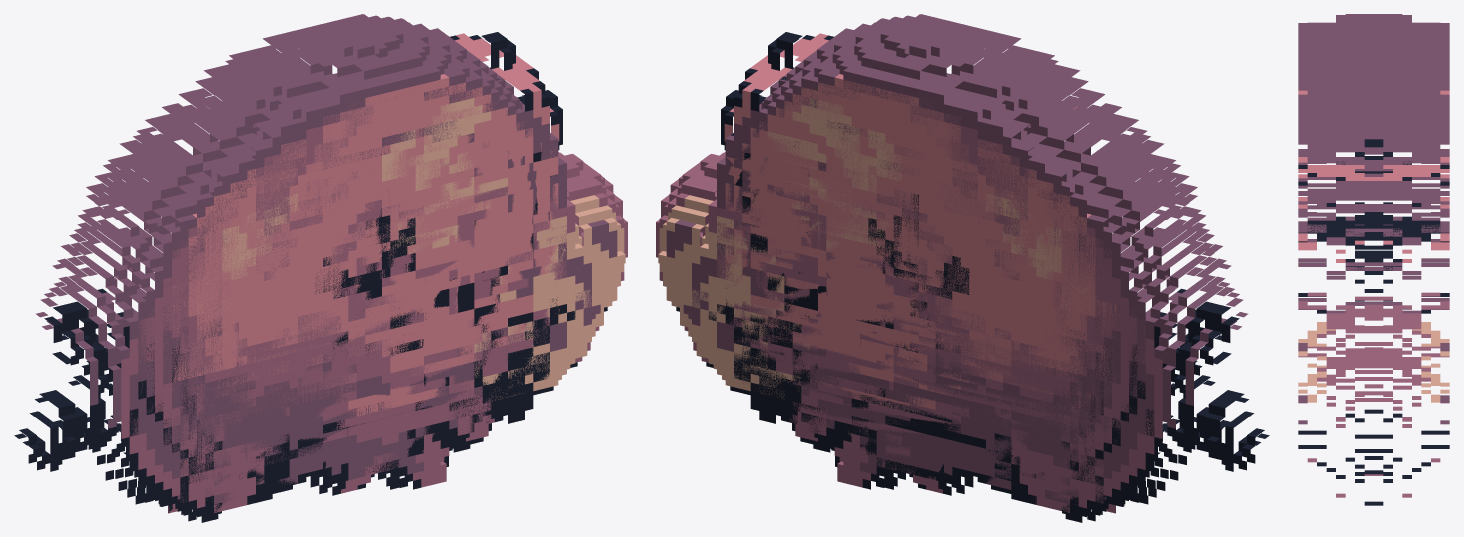
The model's file is porco_andando.glb.
3 views of the same model, side by side, from view 1: azimuth 30°, elevation 25°; view 2: azimuth 150°, elevation 25°; view 3: azimuth 270°, elevation 25° (orthographic). The views are drawn at different scales.
Parts seen in each view (by area): view 1: q0, q1, q2, q3; view 2: q0, q1, q2, q3; view 3: q1, q0, q2, q3.
Boxes of the visible parts, x1=… form: q0: x1=52, y1=14, x2=582, y2=513; q1: x1=81, y1=20, x2=627, y2=486; q2: x1=44, y1=73, x2=603, y2=517; q3: x1=14, y1=156, x2=549, y2=522; q0: x1=701, y1=14, x2=1231, y2=513; q1: x1=656, y1=20, x2=1202, y2=487; q2: x1=680, y1=73, x2=1239, y2=517; q3: x1=734, y1=156, x2=1269, y2=522; q1: x1=1298, y1=14, x2=1449, y2=482; q0: x1=1298, y1=26, x2=1449, y2=422; q2: x1=1298, y1=53, x2=1449, y2=505; q3: x1=1298, y1=57, x2=1449, y2=420.
Bounding box in the file's own units: 70 × 52 × 16.
Materials: 1 (1 with a texture image).
